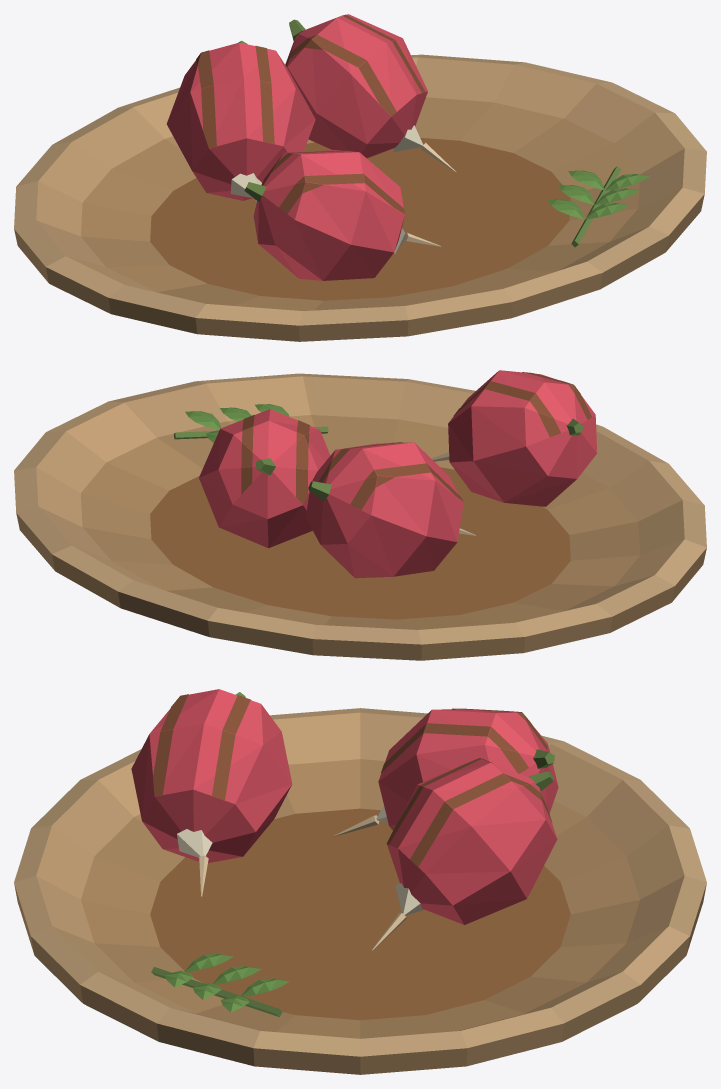
File: roast_radish.glb
3 views of the same model, one above another, from view 1: azimuth 30°, elevation 25°; view 2: azimuth 150°, elevation 25°; view 3: azimuth 270°, elevation 25° (orthographic). The views are drawn at different scales.
Visible parts, largest first — view 1: 浅木盘, 微焦粉红萝卜, 少量香草; view 2: 浅木盘, 微焦粉红萝卜, 少量香草; view 3: 浅木盘, 微焦粉红萝卜, 少量香草.
Part boxes in pixels (x1,y1,x2,y2): 浅木盘: (14, 54, 706, 341); 微焦粉红萝卜: (166, 14, 455, 280); 少量香草: (548, 166, 649, 247); 浅木盘: (14, 373, 706, 660); 微焦粉红萝卜: (199, 370, 597, 578); 少量香草: (174, 404, 328, 442); 浅木盘: (14, 708, 706, 1074); 微焦粉红萝卜: (131, 689, 558, 950); 少量香草: (151, 953, 289, 1017).
Bounding box in the file's own units: 0.56 × 0.1539 × 0.4704.
